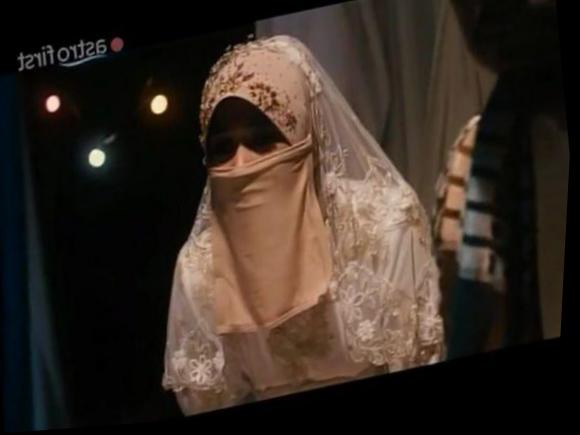NONE: (434, 1, 567, 91)
WRONG: (199, 99, 306, 230)
